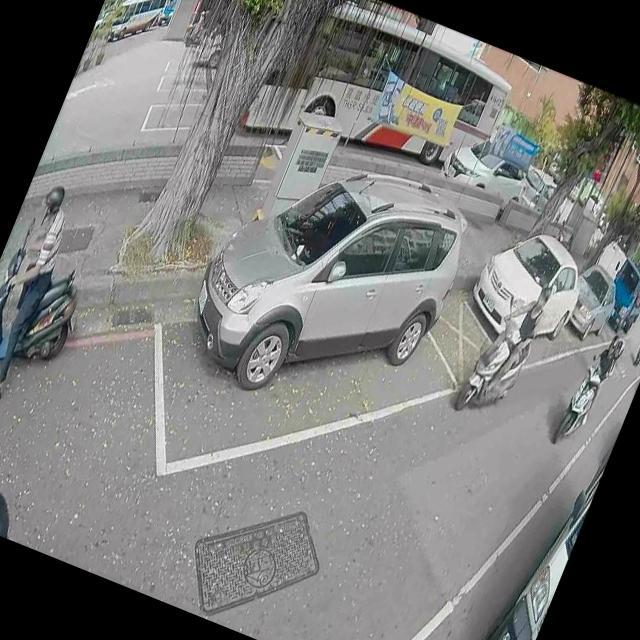person: (0, 173, 88, 411), (470, 271, 558, 407), (566, 324, 626, 431), (574, 331, 628, 424), (0, 479, 23, 538), (188, 8, 208, 40)
